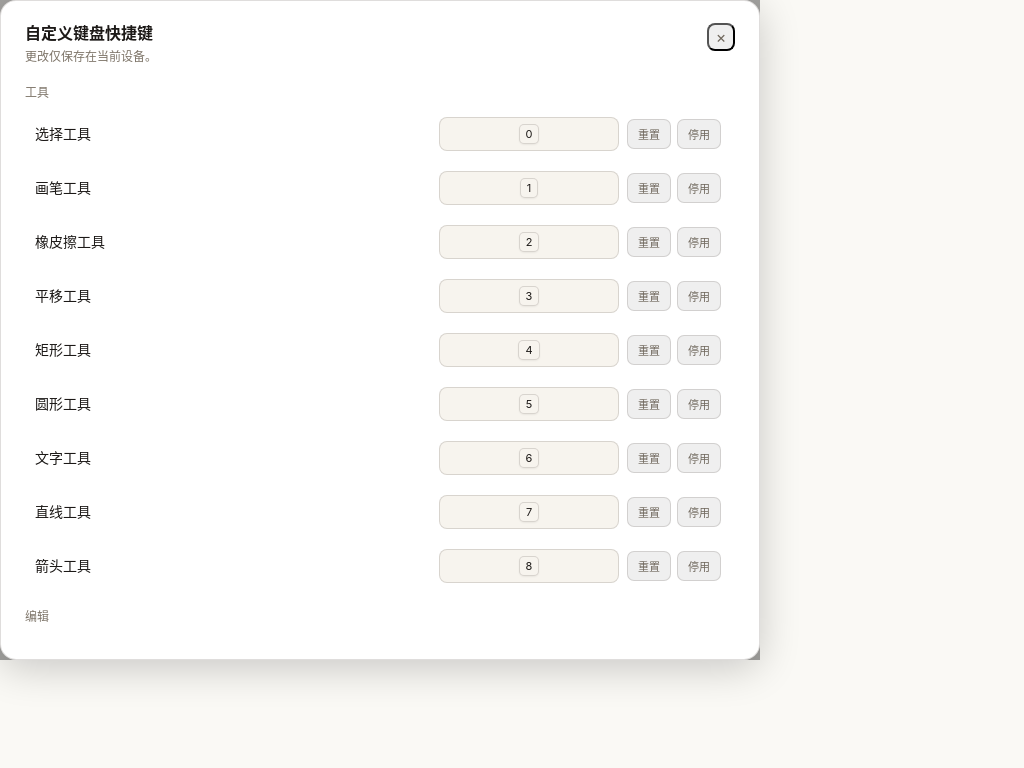
Test: KeyboardShortcutSettings › captures and saves a custom shortcut
Click the button named "设置画笔工具快捷键": (529, 188) [439,171,619,205]
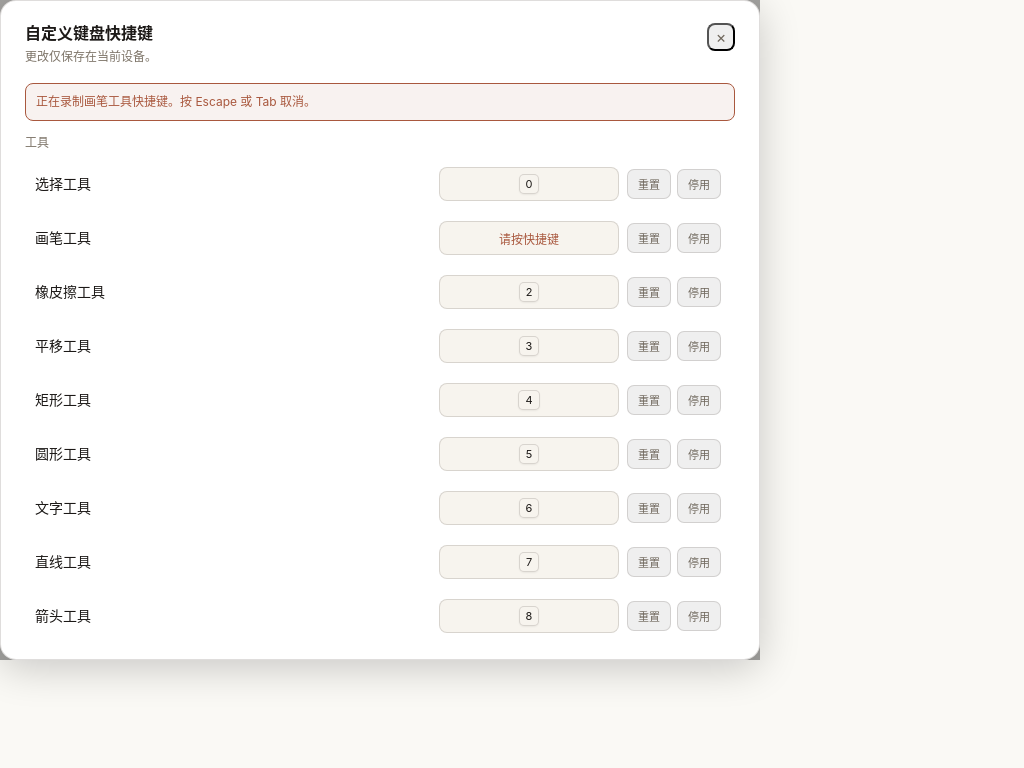
Press p in the button with aria-label "设置画笔工具快捷键", box [439,221,619,255]
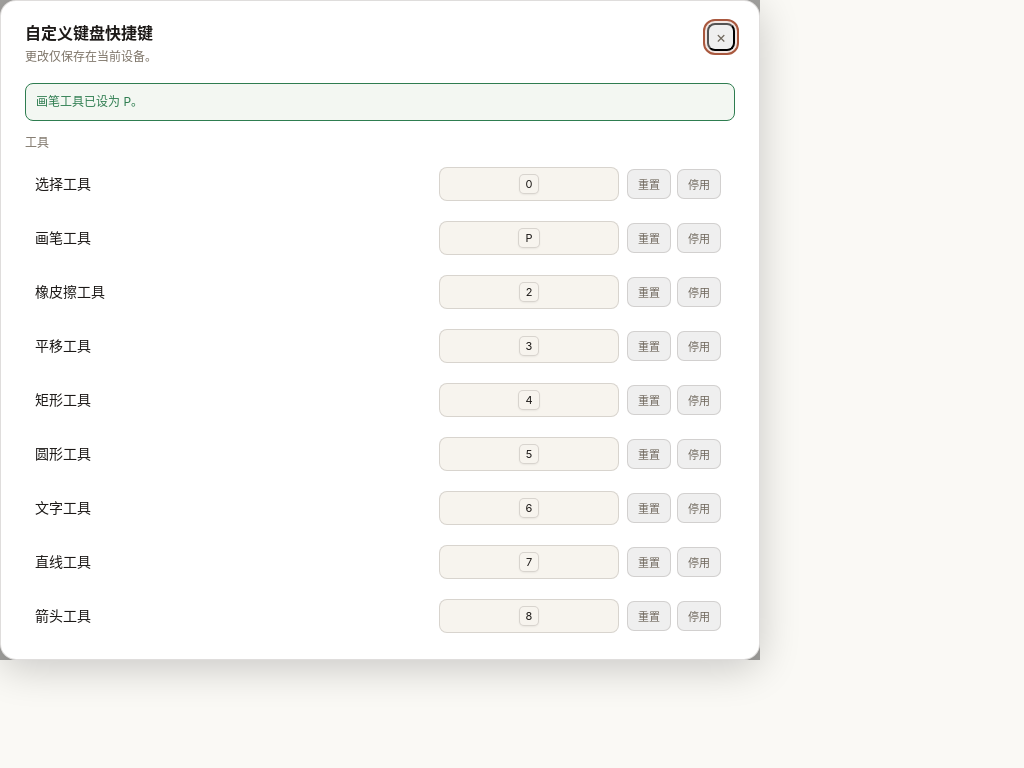
Expected: the text "画笔工具已设为 P。" is shown, [25,83,735,121]
